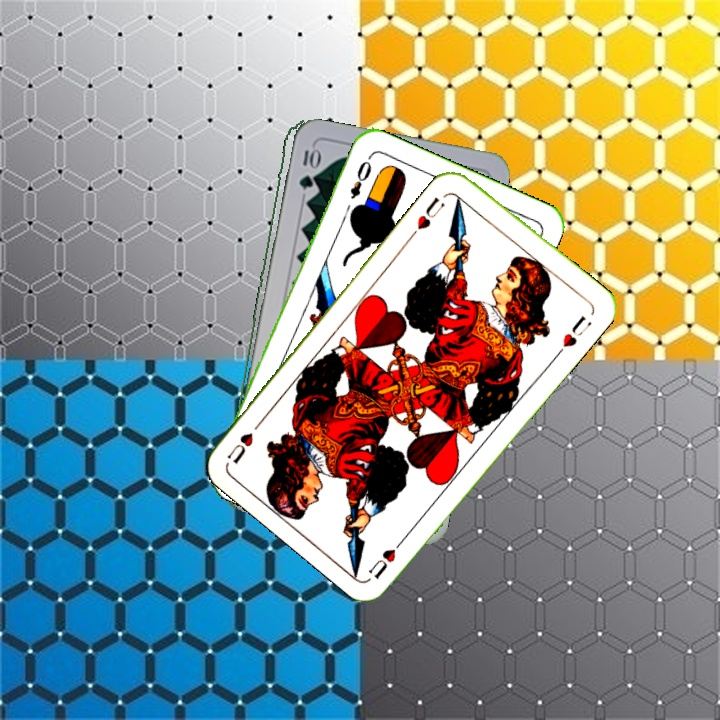EO: (346, 152, 374, 202)
G10: (295, 145, 317, 193)
HU: (364, 532, 410, 582), (412, 193, 448, 233)
